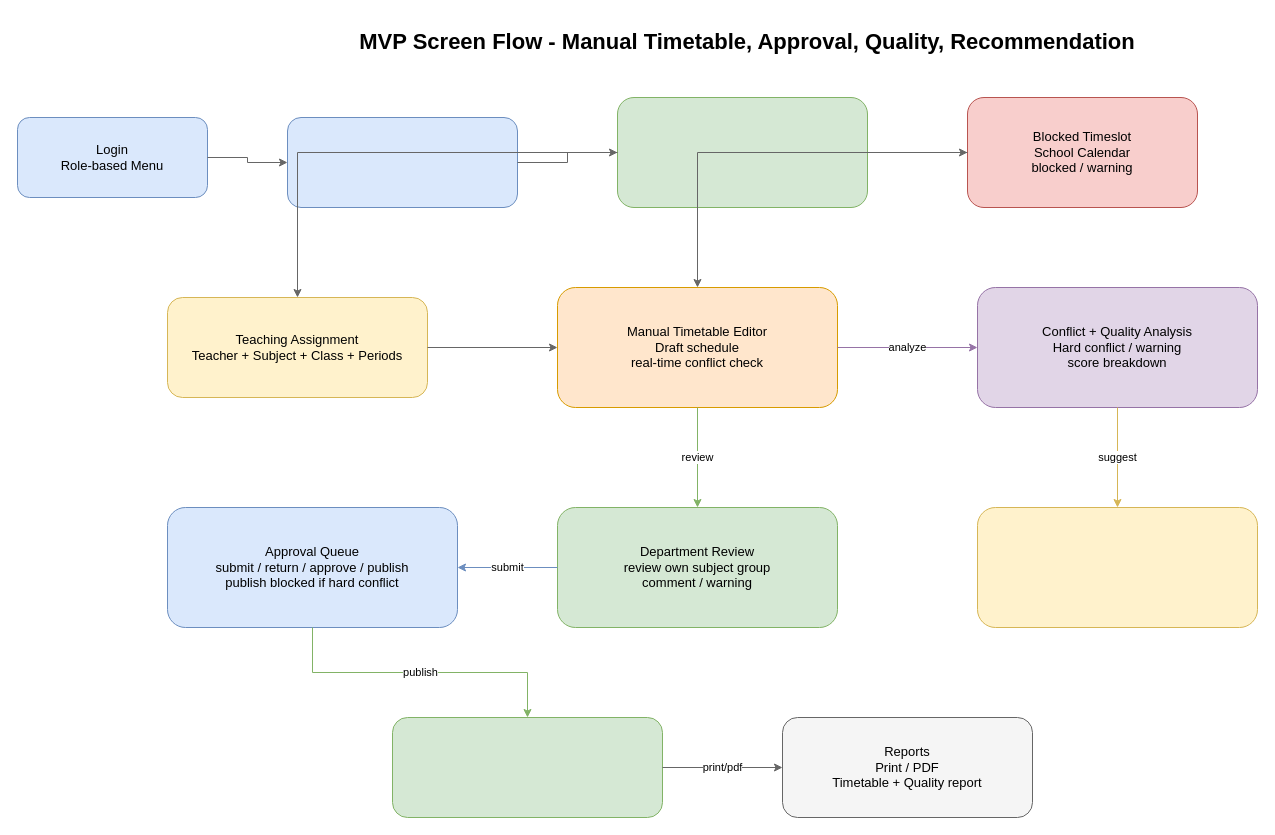
The diagram is 1275 pixels wide and 835 high, and some of its shapes have lost their labels. The centre of each missing label's shape, as x and y in pixels:
Dashboard Status, Conflict, Warning, Score: the point at 402,162
Master Data Teachers, Subjects, Rooms, Classes, Timeslots: the point at 742,152
Published Views Teacher timetable Homeroom timetable Room timetable: the point at 527,767
Recommendation Detail before score predicted after score user decides: the point at 1117,567
